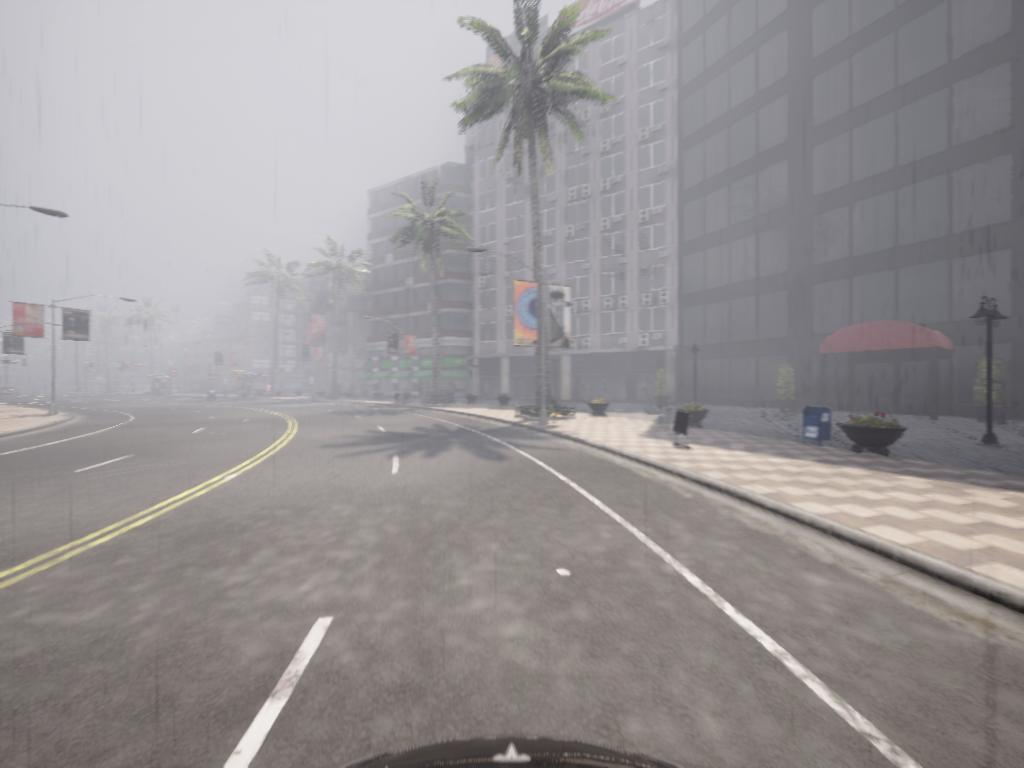traffic_light: (388, 333, 402, 360)
